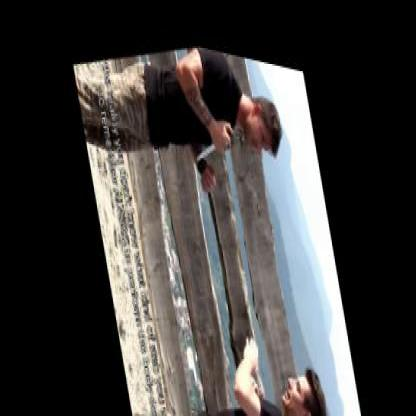knife: (187, 99, 237, 159)
